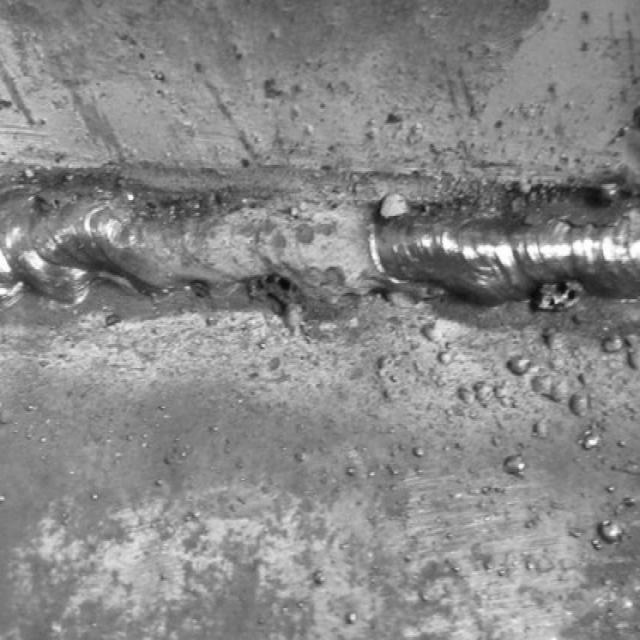Bad Weld: (0, 162, 639, 340)
Defect: (232, 266, 310, 324), (528, 270, 578, 318)
